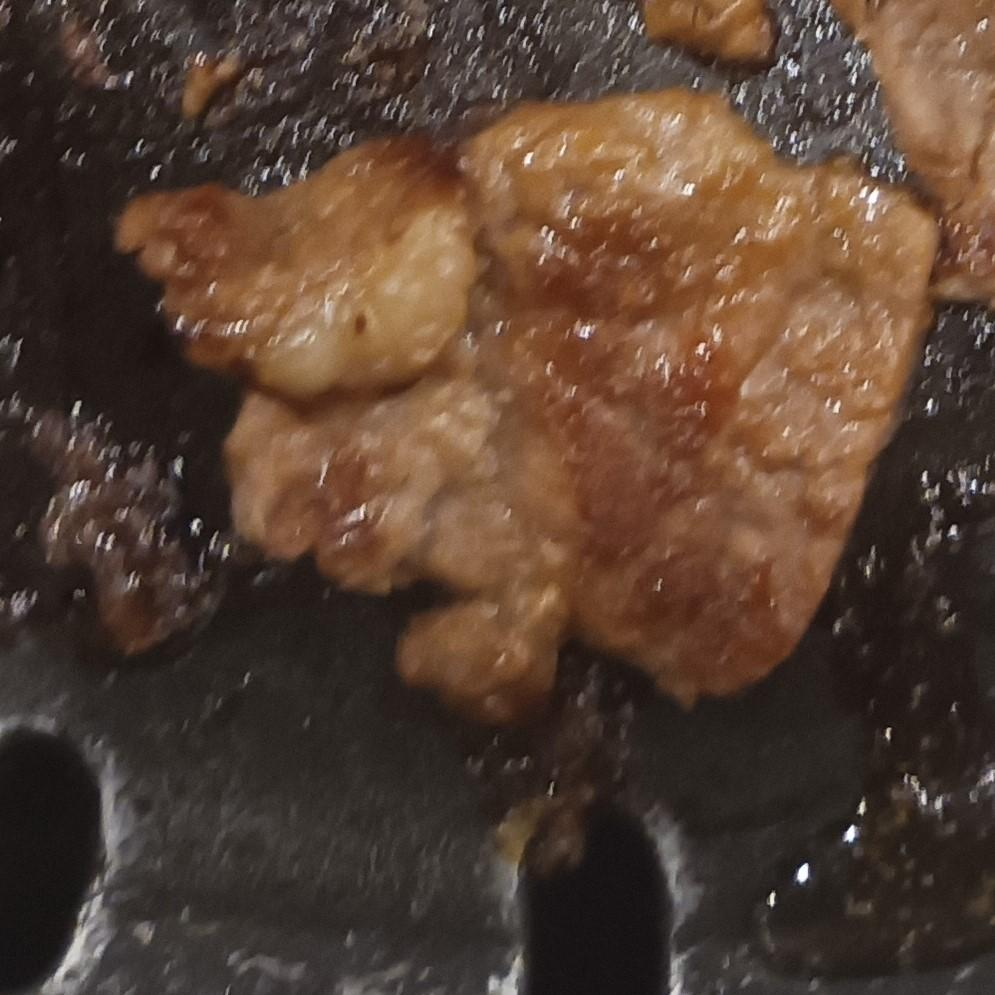Overcooked: (0, 393, 235, 674)
Well-Cooked: (459, 90, 934, 702), (123, 168, 582, 735)
